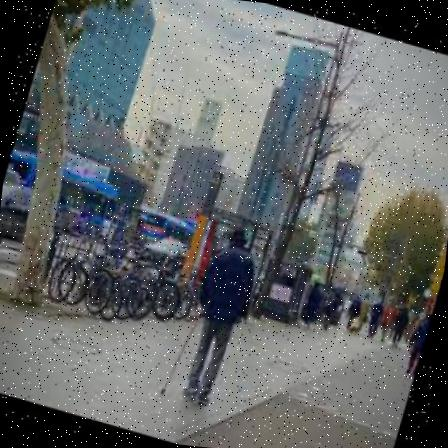silver: (158, 213, 268, 416)
